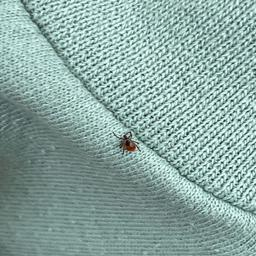Ixodes scapularis: (110, 131, 140, 158)
